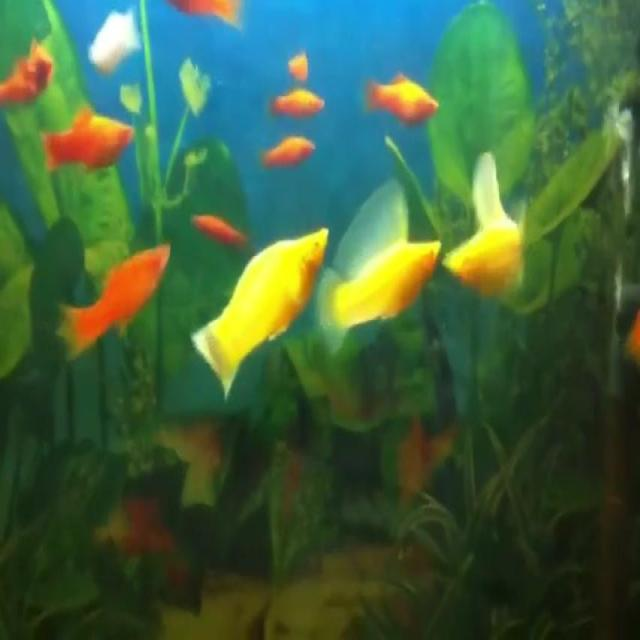PlatyFish: (188, 208, 340, 429), (313, 168, 444, 369), (52, 232, 172, 368), (34, 103, 154, 184), (362, 62, 444, 135), (248, 131, 326, 173), (257, 80, 327, 124)
